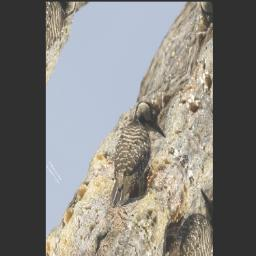Woodpecker: (92, 92, 177, 230)
